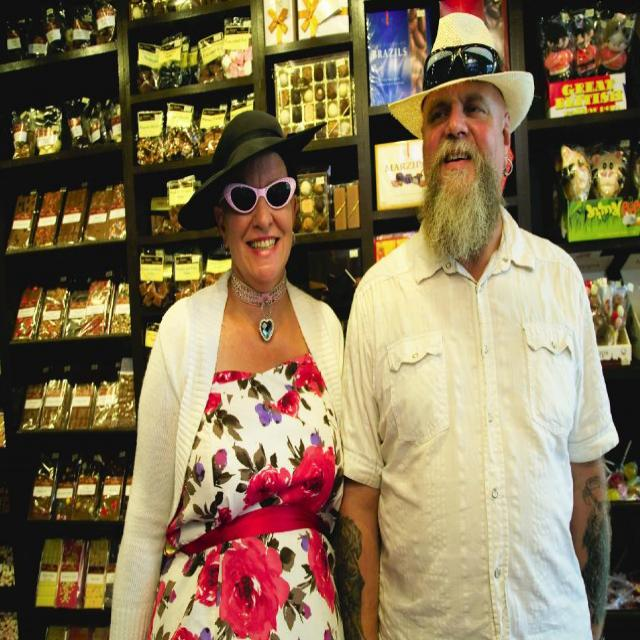Glasses: (422, 36, 505, 90), (216, 176, 298, 226)
